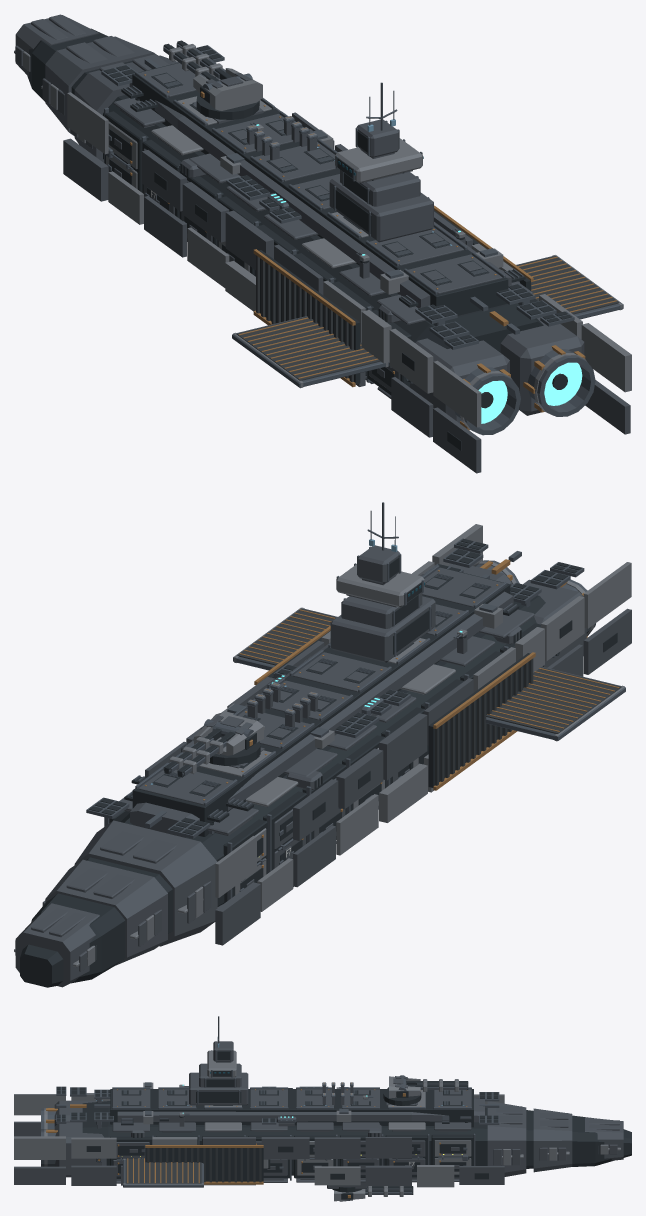
The model's file is escort.glb.
3 views of the same model, one above another, from view 1: azimuth 30°, elevation 25°; view 2: azimuth 150°, elevation 25°; view 3: azimuth 270°, elevation 25° (orthographic). The views are drawn at different scales.
Parts seen in each view (by area): view 1: FleetHull, mesh_turret_gun_1, mesh_recoil_gun_1; view 2: FleetHull, mesh_recoil_gun_1, mesh_turret_gun_1; view 3: FleetHull, mesh_recoil_gun_1, mesh_turret_gun_1, mesh_recoil_gun_2, mesh_turret_gun_2.
Boxes of the visible parts, x1,y1,x2,y2 form: FleetHull: (14,14,631,473); mesh_turret_gun_1: (193,68,262,110); mesh_recoil_gun_1: (163,40,252,90); FleetHull: (14,502,631,987); mesh_recoil_gun_1: (163,719,253,777); mesh_turret_gun_1: (194,712,263,755); FleetHull: (14,1016,631,1192); mesh_recoil_gun_1: (398,1075,468,1091); mesh_turret_gun_1: (389,1076,420,1098); mesh_recoil_gun_2: (345,1186,413,1200); mesh_turret_gun_2: (334,1189,365,1201).
Bounding box in the file's own units: 122 × 109 × 336.
